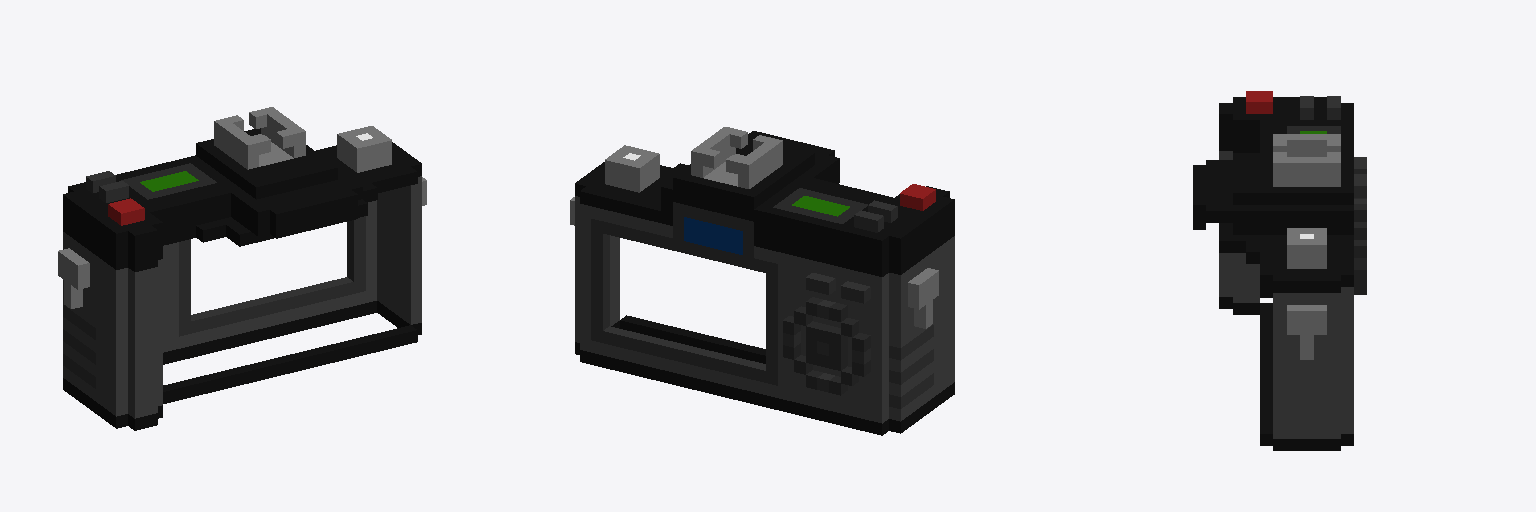
3 views of the same model, side by side, from view 1: azimuth 30°, elevation 25°; view 2: azimuth 150°, elevation 25°; view 3: azimuth 270°, elevation 25° (orthographic).
Visible parts, largest first — view 1: object 1; view 2: object 1; view 3: object 1.
Boxes of the visible parts, x1,y1,x2,y2 form: object 1: [58, 107, 426, 430]; object 1: [570, 127, 954, 435]; object 1: [1193, 91, 1366, 450].
Bounding box in the file's own units: 3 × 1.9 × 1.3.
Materials: 1 (1 with a texture image).